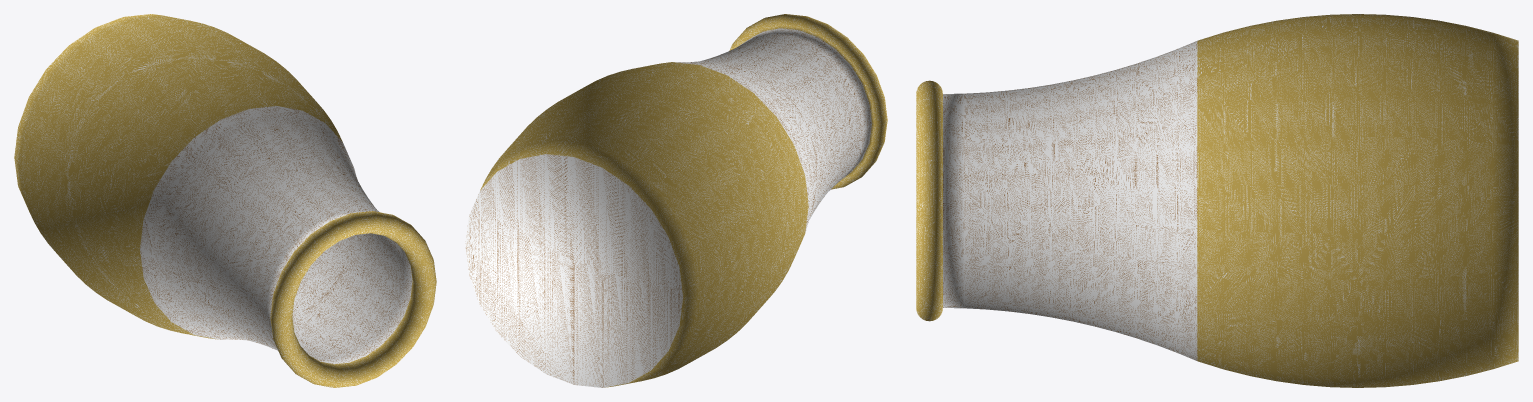
File: model_scale.obj
3 renders of one model, left to right at view 1: azimuth 30°, elevation 25°; view 2: azimuth 150°, elevation 25°; view 3: azimuth 270°, elevation 25°, orthographic. The views are drawn at different scales.
Parts seen in each view (by area): view 1: mesh1_mesh1-geometry; view 2: mesh1_mesh1-geometry; view 3: mesh1_mesh1-geometry.
Part boxes in pixels (x1,y1,x2,y2): mesh1_mesh1-geometry: (14,14,436,387); mesh1_mesh1-geometry: (465,14,887,387); mesh1_mesh1-geometry: (916,14,1518,387).
Bounding box in the file's own units: 0.0719 × 0.0719 × 0.1155.
